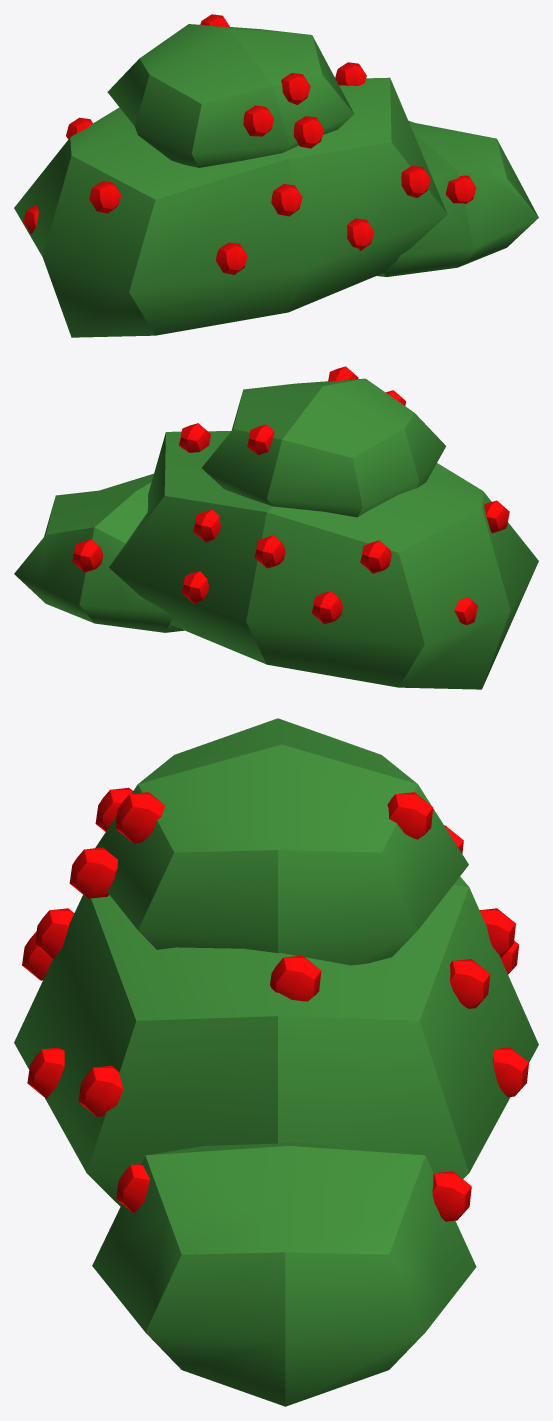
The model's file is Arbusto_1.fbx.
3 renders of one model, top to bottom at view 1: azimuth 30°, elevation 25°; view 2: azimuth 150°, elevation 25°; view 3: azimuth 270°, elevation 25°, orthographic. The views are drawn at different scales.
Parts seen in each view (by area): view 1: arbusto1, arbusto2, arbusto3, pCube4, pCube1, pCube2, pCube8, pCube7, pCube5, pCube9, pCube3, pCube6 (+1 smaller); view 2: arbusto1, arbusto2, arbusto3, pCube14, pCube13, pCube18, pCube15, pCube12, pCube17, pCube16, pCube10, pCube1 (+1 smaller); view 3: arbusto1, arbusto3, arbusto2, pCube8, pCube12, pCube9, pCube5, pCube10, pCube18, pCube17, pCube6, pCube16 (+5 smaller).
Part boxes in pixels (box(x1,y1,x2,y2)): arbusto1: box(14, 77, 447, 337); arbusto2: box(107, 24, 353, 167); arbusto3: box(377, 120, 538, 276); pCube4: box(215, 242, 247, 274); pCube1: box(89, 181, 121, 213); pCube2: box(271, 184, 302, 216); pCube8: box(293, 116, 324, 148); pCube7: box(243, 105, 274, 136); pCube5: box(401, 165, 430, 197); pCube9: box(281, 73, 310, 104); pCube3: box(446, 175, 476, 203); pCube6: box(347, 218, 374, 250); arbusto1: box(109, 431, 538, 689); arbusto2: box(202, 378, 445, 517); arbusto3: box(14, 473, 184, 632); pCube14: box(360, 540, 391, 573); pCube13: box(254, 535, 285, 568); pCube18: box(72, 539, 103, 572); pCube15: box(311, 591, 342, 624); pCube12: box(179, 423, 210, 452); pCube17: box(193, 509, 220, 542); pCube16: box(181, 571, 208, 603); pCube10: box(247, 424, 274, 454); pCube1: box(484, 500, 509, 533); arbusto1: box(14, 876, 538, 1206); arbusto3: box(92, 1142, 476, 1406); arbusto2: box(95, 718, 468, 965); pCube8: box(69, 847, 117, 898); pCube12: box(270, 955, 321, 1001); pCube9: box(115, 792, 164, 843); pCube5: box(78, 1065, 123, 1116); pCube10: box(387, 792, 433, 839); pCube18: box(432, 1171, 471, 1221); pCube17: box(450, 959, 490, 1008); pCube6: box(27, 1047, 64, 1098); pCube16: box(493, 1047, 528, 1097).
Size of the model in its own units: 8.5 by 4.66 by 4.96.
